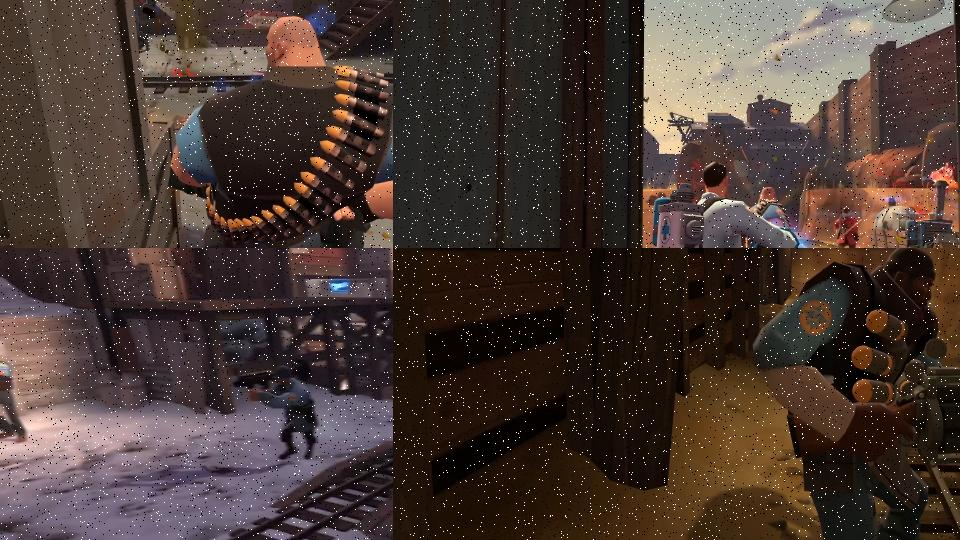Enemy: (751, 248, 960, 540), (170, 14, 393, 248), (637, 157, 799, 248), (230, 360, 322, 461), (741, 178, 837, 248), (0, 360, 29, 444), (834, 202, 860, 248), (933, 161, 957, 202)
